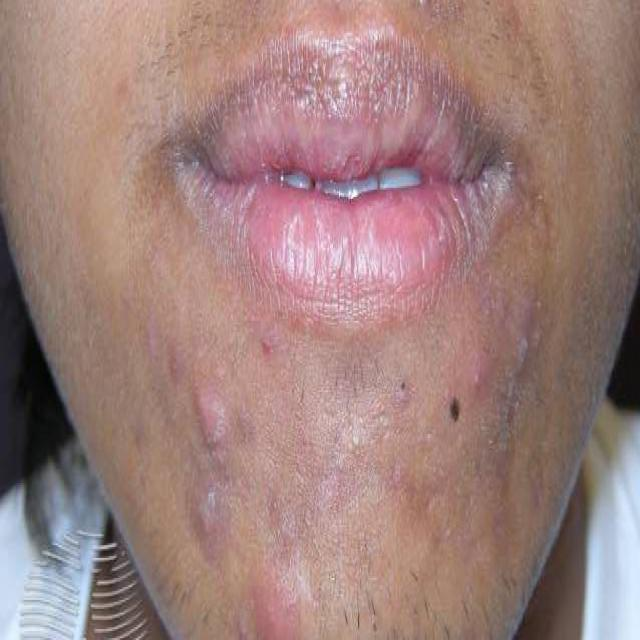blackheads: (504, 268, 540, 376), (194, 368, 232, 439), (187, 472, 220, 538), (444, 378, 464, 430)
